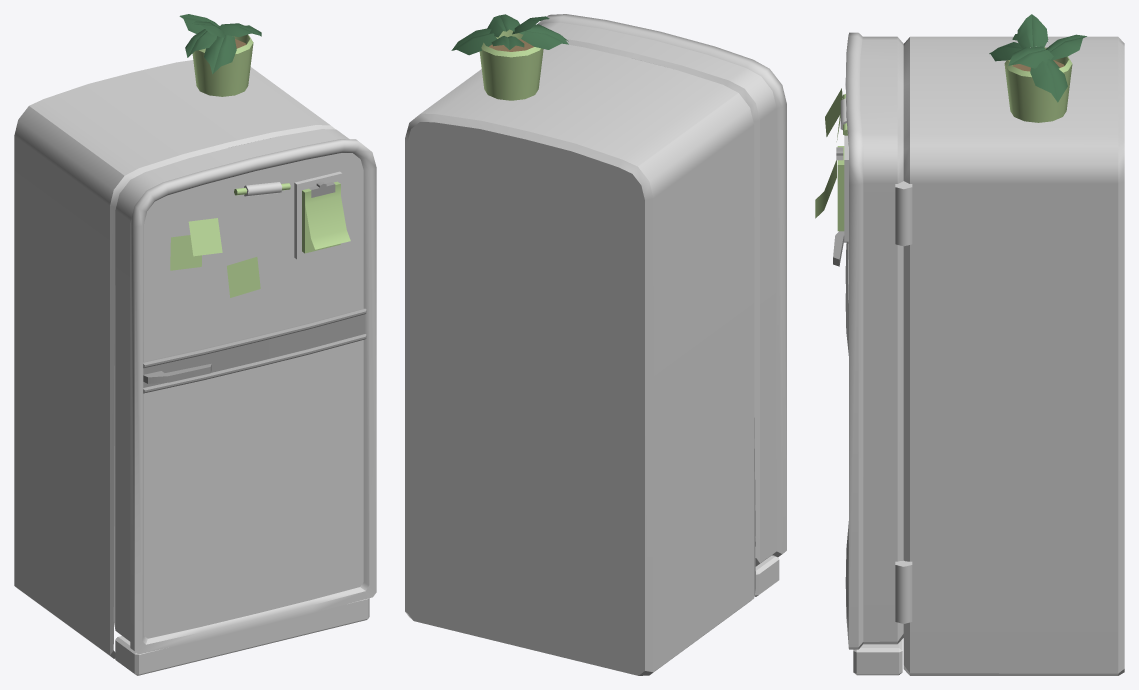
Rendered from freezer_01.fbx.
The picture shows the model from 3 angles, left to right: view 1: azimuth 30°, elevation 25°; view 2: azimuth 150°, elevation 25°; view 3: azimuth 270°, elevation 25°; orthographic projection. The views are drawn at different scales.
Visible parts, largest first — view 1: pCube184, pCube186, pCube185, polySurface35, pCylinder55, pCube190, pCube189, pPlane55, pCube187; view 2: pCube184, pCylinder55, pCube185, pPlane57, pPlane56; view 3: pCube184, pCylinder55, pCube185, pCylinder51, pCylinder52, pPlane56, pPlane60, pPlane59, pCube188, pPlane58, pCube189.
Boxes of the visible parts, box(x1,y1,x2,y2) form: pCube184: box(14, 60, 376, 658); pCube186: box(143, 308, 366, 393); pCube185: box(115, 598, 369, 675); polySurface35: box(170, 218, 260, 297); pCylinder55: box(192, 34, 253, 96); pCube190: box(305, 184, 350, 249); pCube189: box(294, 171, 342, 259); pPlane55: box(204, 35, 236, 74); pCube187: box(143, 363, 211, 383); pCube184: box(405, 14, 786, 675); pCylinder55: box(479, 29, 543, 100); pCube185: box(754, 555, 779, 596); pPlane57: box(521, 26, 568, 49); pPlane56: box(451, 28, 496, 55); pCube184: box(845, 32, 1124, 675); pCylinder55: box(1004, 47, 1072, 122); pCube185: box(853, 639, 902, 675); pCylinder51: box(895, 181, 912, 246); pCylinder52: box(895, 560, 912, 623); pPlane56: box(1030, 59, 1067, 102); pPlane60: box(1017, 14, 1048, 48); pPlane59: box(1008, 46, 1053, 68); pCube188: box(837, 146, 844, 231); pPlane58: box(1046, 34, 1086, 59); pCube189: box(844, 135, 848, 241).
Bounding box in the file's own units: 5.57 × 12.02 × 5.51.
